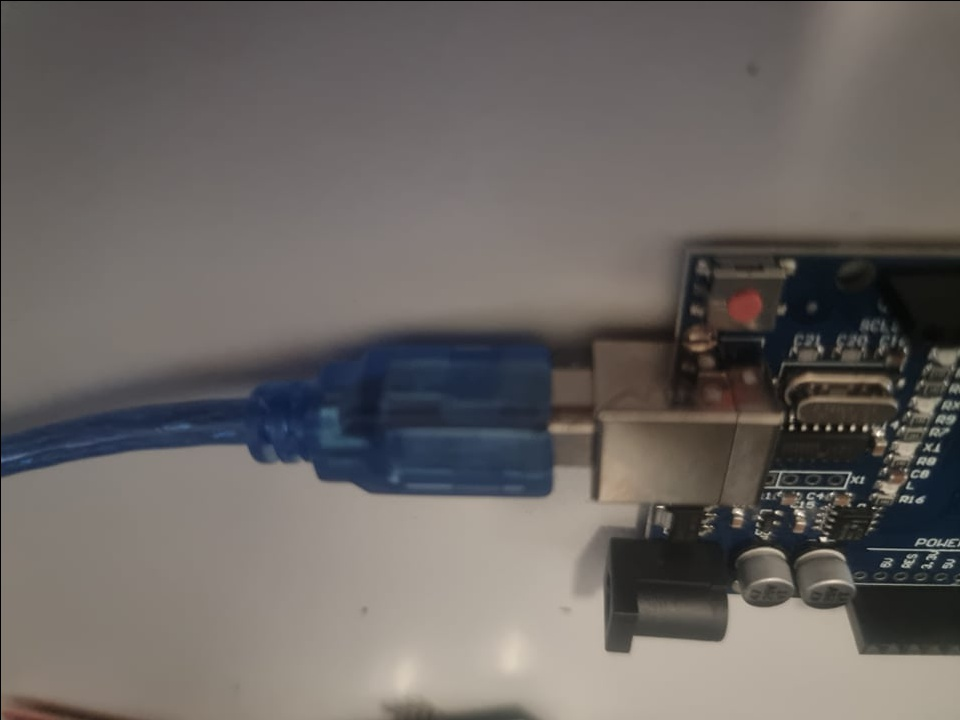UNO R3: (587, 217, 959, 657)
